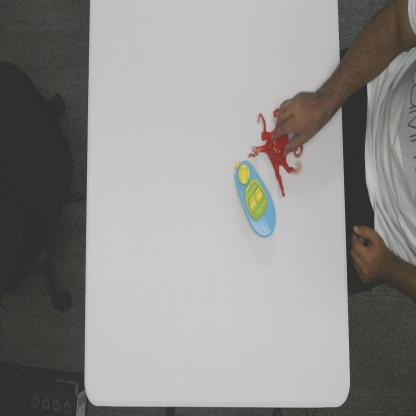Boat: (232, 159, 276, 239)
Hand: (270, 89, 320, 159)
Octopus: (248, 106, 304, 199)
